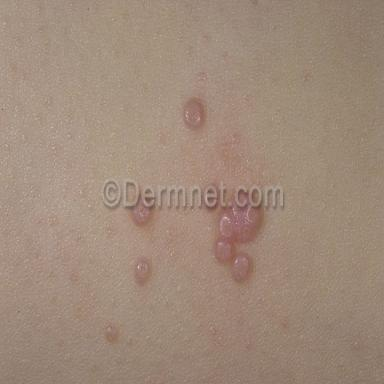Molluscum-Contagiosum: (215, 207, 259, 283), (184, 99, 204, 129), (135, 260, 149, 283), (105, 324, 117, 342)
